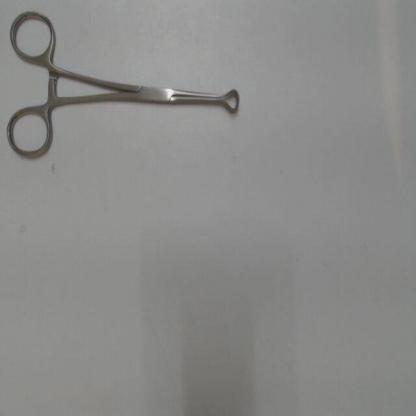Babcock Tissue Forceps: (3, 4, 243, 164)
